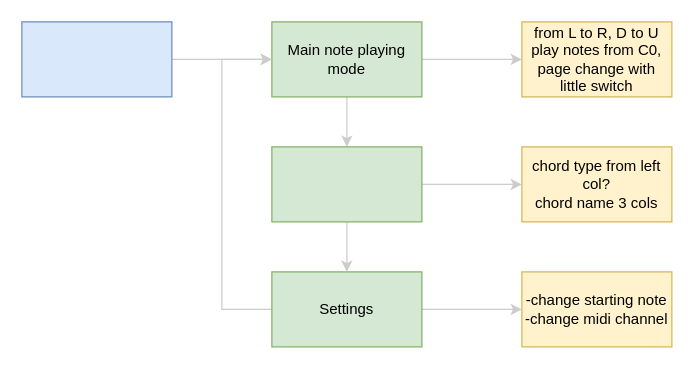
This 694x369 diagram has some shape labels left out. The centre of each missing label's shape, as x and y in pixels:
"Chords" belongs at [346,184].
"PLUG DEVICE" belongs at [96,59].
